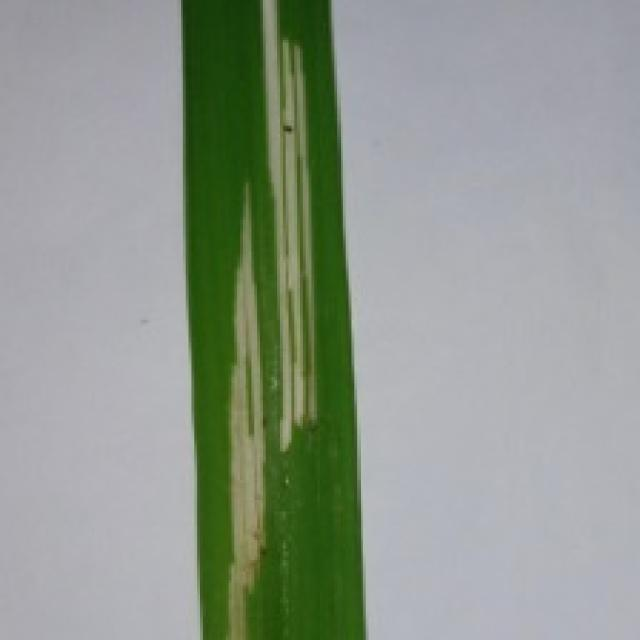Bacterial_Blight: (253, 0, 330, 455), (214, 177, 263, 640)
